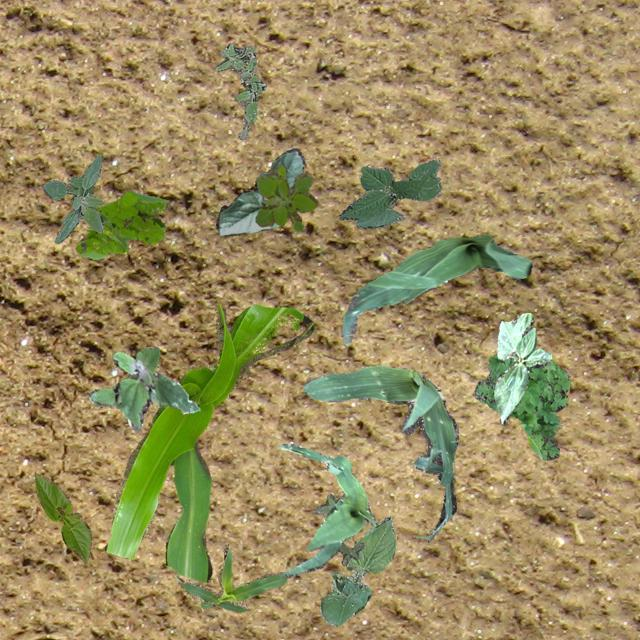crop: (104, 302, 314, 580), (302, 364, 458, 540), (340, 233, 530, 344), (278, 442, 376, 576), (318, 516, 394, 626), (214, 148, 304, 235), (174, 544, 286, 612), (338, 158, 440, 228), (494, 312, 550, 422), (34, 474, 90, 562)
weed: (472, 352, 570, 460), (88, 344, 198, 430), (76, 190, 170, 258), (42, 154, 102, 242), (214, 43, 264, 138), (254, 163, 316, 230), (332, 541, 362, 565), (312, 492, 338, 514)
